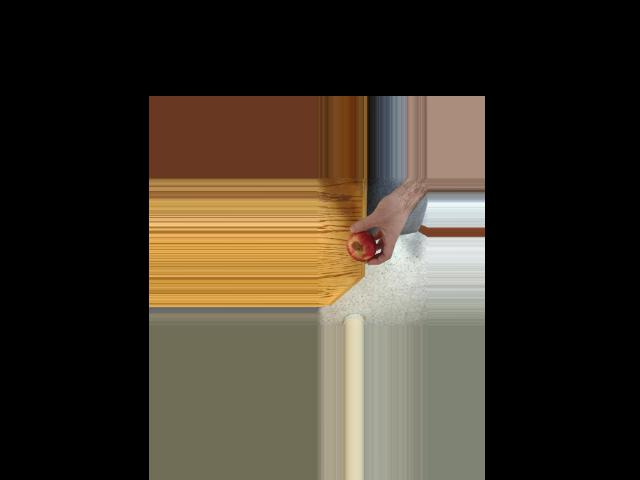apple: (346, 227, 376, 263)
